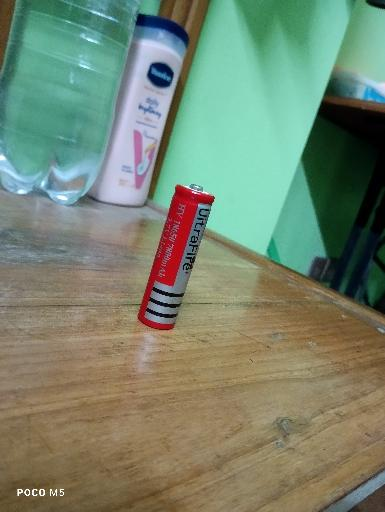Battery: (138, 183, 216, 332)
